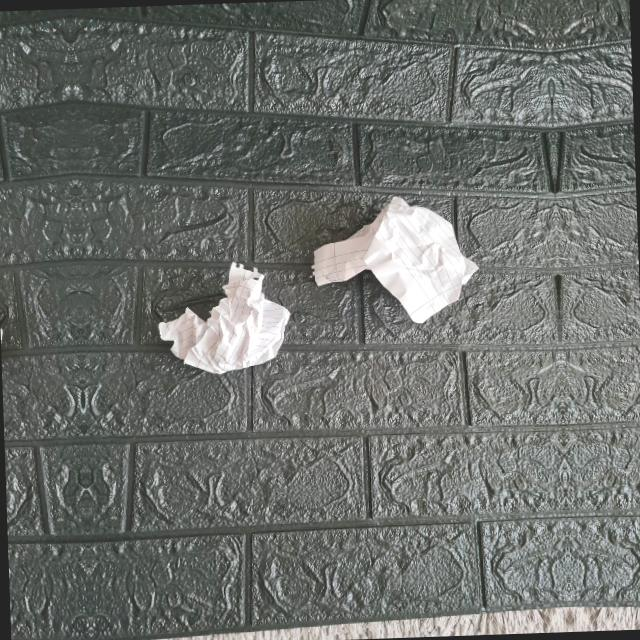paper: (309, 200, 486, 314), (156, 263, 294, 376), (630, 194, 640, 303), (0, 273, 4, 381)
